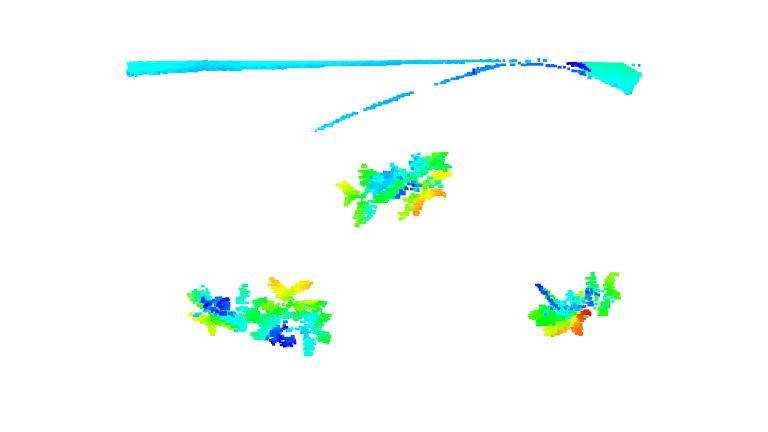chickpea: (524, 271, 630, 342), (257, 266, 334, 361), (341, 156, 407, 231), (399, 139, 454, 221), (186, 279, 257, 340)
